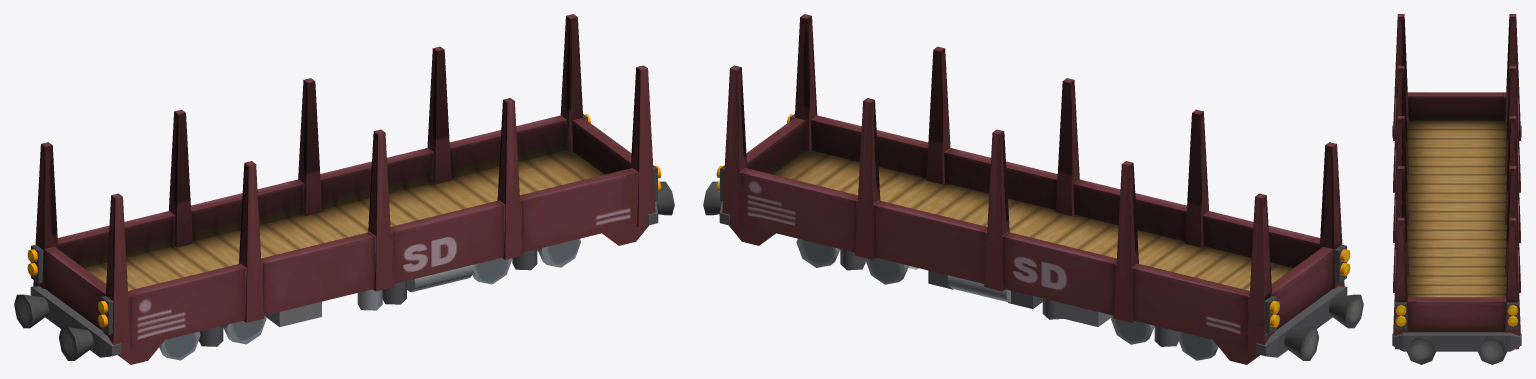
The model's file is Goederen_Laadbak_t3.FBX.
3 views of the same model, side by side, from view 1: azimuth 30°, elevation 25°; view 2: azimuth 150°, elevation 25°; view 3: azimuth 270°, elevation 25° (orthographic). The views are drawn at different scales.
Visible parts, largest first — view 1: LageBox, TrainLocomotive, Object002, Object004, Object001; view 2: LageBox, TrainLocomotive, Object002, Object004, Object001; view 3: LageBox, Object001, Object003.
Boxes of the visible parts, <box> form: LageBox: <box>33,14,655,364</box>; TrainLocomotive: <box>159,238,580,360</box>; Object002: <box>14,286,121,360</box>; Object004: <box>27,244,113,334</box>; Object001: <box>646,181,674,225</box>; LageBox: <box>722,14,1344,364</box>; TrainLocomotive: <box>796,238,1218,360</box>; Object002: <box>1256,286,1363,360</box>; Object004: <box>1264,244,1350,334</box>; Object001: <box>703,181,731,225</box>; LageBox: <box>1393,14,1520,349</box>; Object001: <box>1392,332,1521,364</box>; Object003: <box>1395,302,1518,329</box>.
Bounding box in the file's own units: 1170 × 355 × 275.
Materials: 6 (6 with a texture image).
